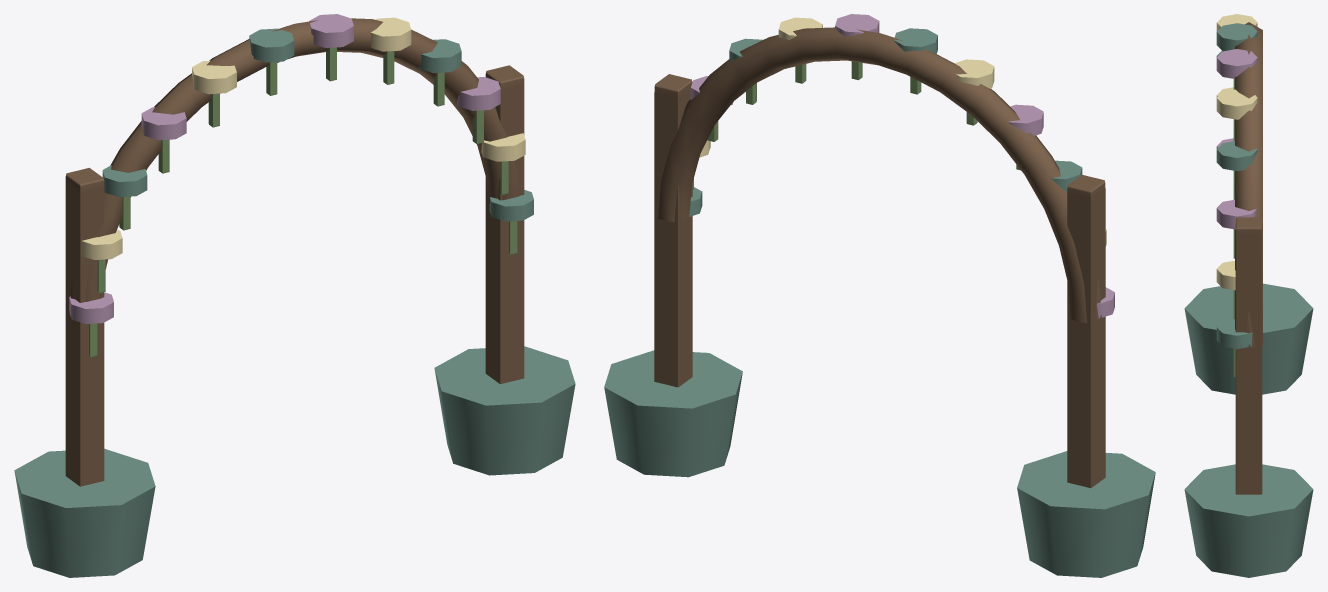
Rendered from springarch-1.glb.
3 views of the same model, side by side, from view 1: azimuth 30°, elevation 25°; view 2: azimuth 150°, elevation 25°; view 3: azimuth 270°, elevation 25° (orthographic). The views are drawn at different scales.
Visible parts, largest first — view 1: springarch-1-0; view 2: springarch-1-0; view 3: springarch-1-0.
Part boxes in pixels (x1=…): springarch-1-0: x1=14, y1=14, x2=575, y2=577; springarch-1-0: x1=604, y1=14, x2=1155, y2=577; springarch-1-0: x1=1184, y1=14, x2=1313, y2=577.
Size of the model in its own units: 1.9 by 1.59 by 0.44.
